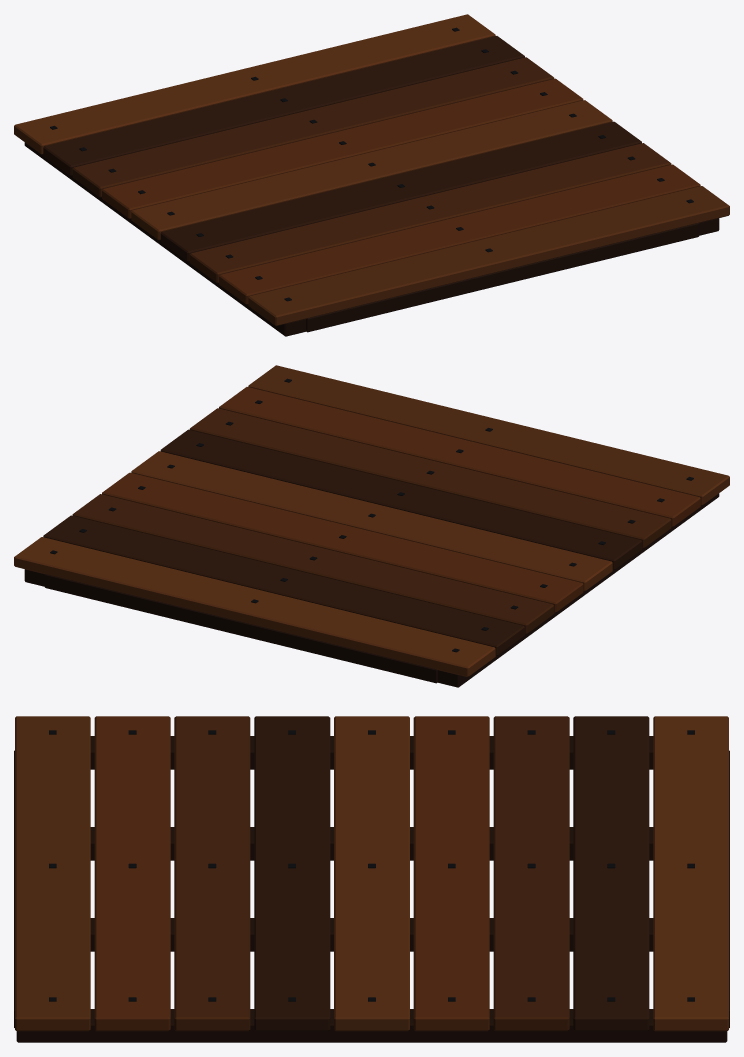
The model's file is mod_plank_floor_2x2m.glb.
The picture shows the model from 3 angles, top to bottom: view 1: azimuth 30°, elevation 25°; view 2: azimuth 150°, elevation 25°; view 3: azimuth 270°, elevation 25°; orthographic projection. The views are drawn at different scales.
Visible parts, largest first — view 1: Mod_Plank_Floor_2x2m; view 2: Mod_Plank_Floor_2x2m; view 3: Mod_Plank_Floor_2x2m.
Boxes of the visible parts, x1,y1,x2,y2 form: Mod_Plank_Floor_2x2m: [14, 14, 729, 336]; Mod_Plank_Floor_2x2m: [14, 365, 729, 687]; Mod_Plank_Floor_2x2m: [14, 716, 729, 1042].
Size of the model in its own units: 1.99 by 0.104 by 1.99.
